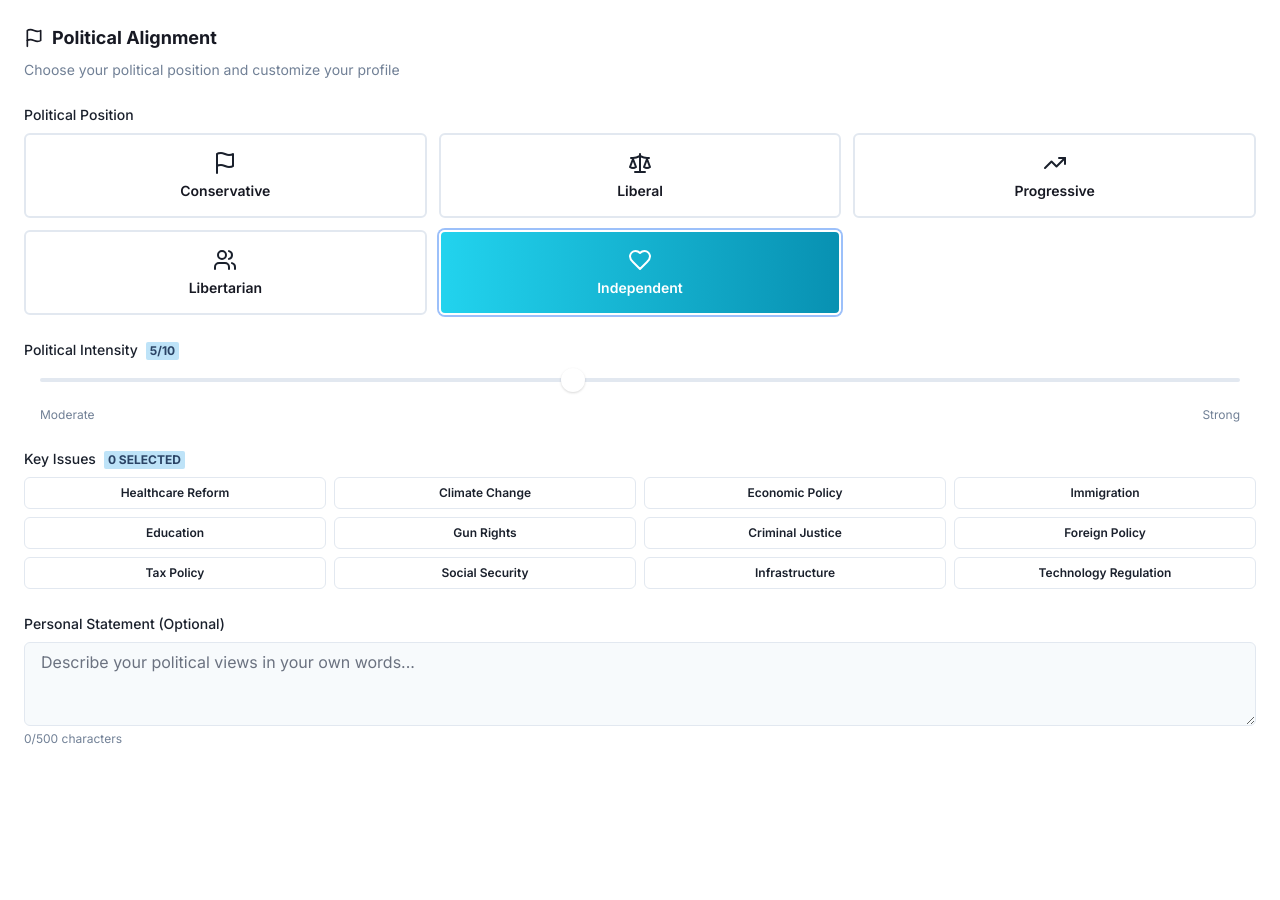
Test case: PoliticalAlignmentSelector › Position Selection › shows tooltips for position options
The width and height of the screenshot is (1280, 900).
Hover over the button "Conservative": (225,175) [24,133,427,218]
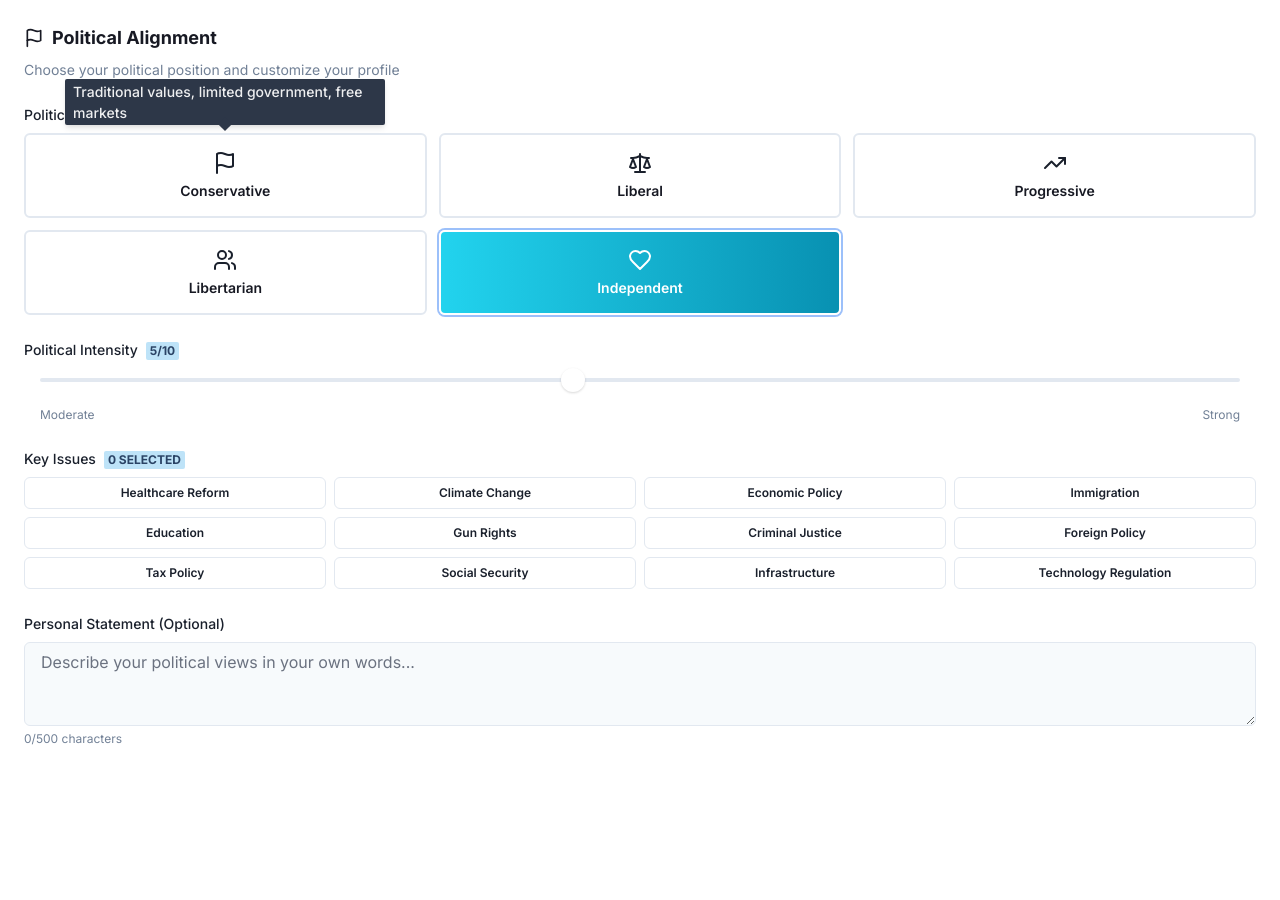
Check: the tooltip "Traditional values, limited government, free markets" is shown, box [65,79,385,125]
